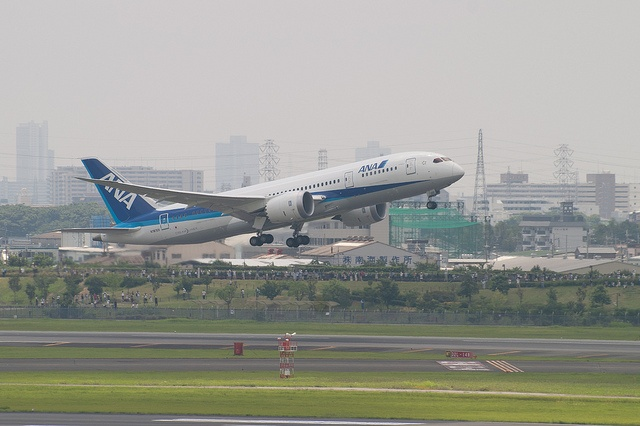airplane: (63, 151, 522, 401)
